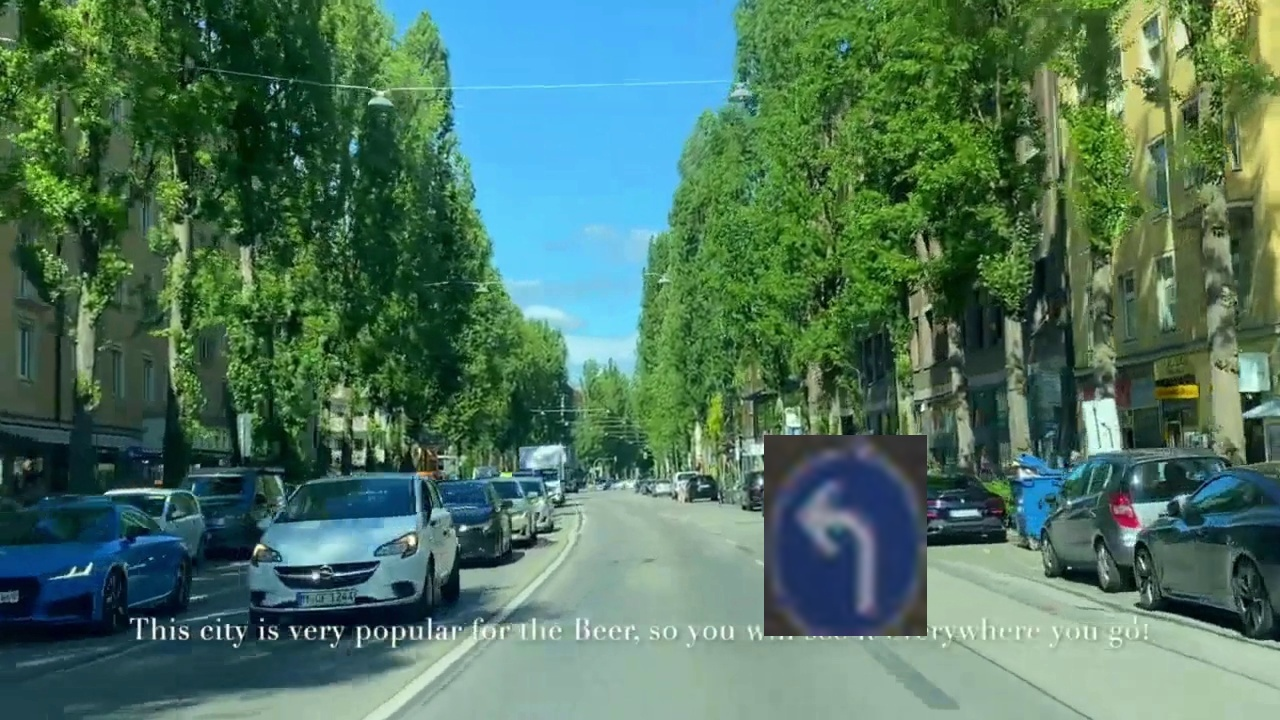Turn left: (764, 435, 927, 636)
